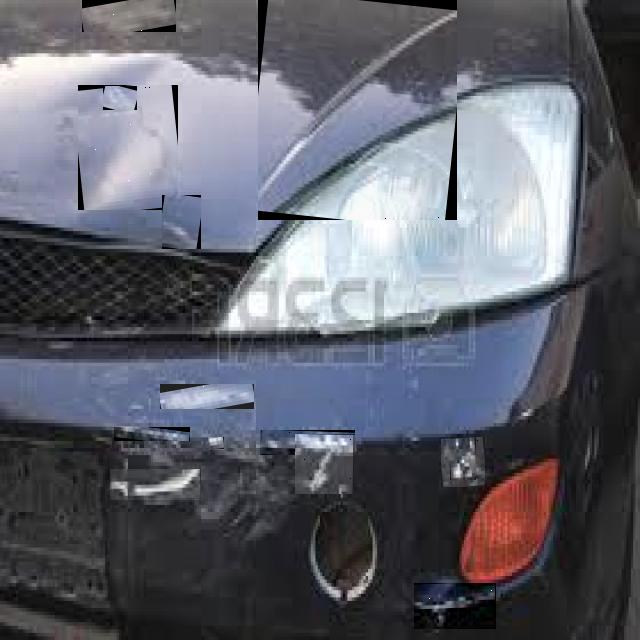Scratch: (258, 10, 456, 200), (322, 0, 440, 138), (84, 89, 177, 209), (414, 584, 494, 628), (295, 434, 352, 493), (82, 0, 175, 31), (414, 594, 493, 628), (110, 469, 199, 498), (160, 385, 253, 408), (261, 432, 354, 454), (442, 437, 484, 485), (133, 471, 200, 496), (160, 384, 225, 408), (414, 597, 475, 614), (451, 439, 475, 479), (308, 454, 333, 491), (116, 427, 187, 440), (162, 221, 196, 248), (103, 86, 133, 109), (110, 483, 127, 494), (208, 437, 223, 448)
